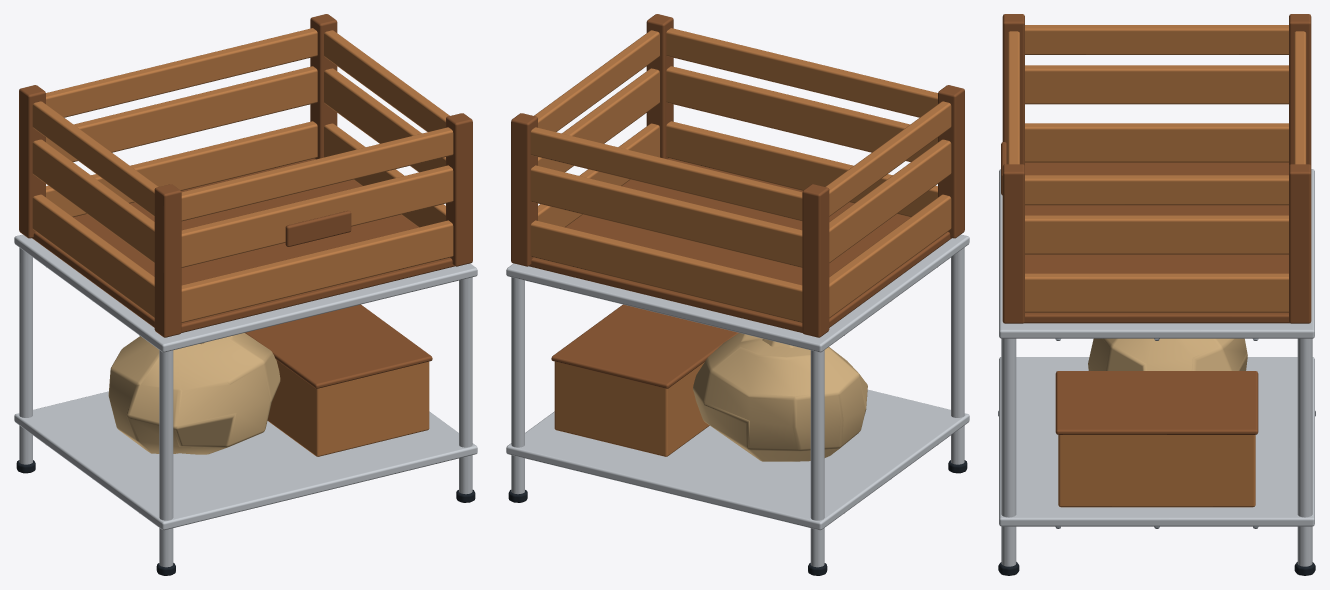
The model's file is ProduceRack.glb.
The picture shows the model from 3 angles, left to right: view 1: azimuth 30°, elevation 25°; view 2: azimuth 150°, elevation 25°; view 3: azimuth 270°, elevation 25°; orthographic projection. The views are drawn at different scales.
Visible parts, largest first — view 1: ProduceRack; view 2: ProduceRack; view 3: ProduceRack.
Boxes of the visible parts, box(x1,y1,x2,y2) form: ProduceRack: box(14, 14, 477, 575); ProduceRack: box(506, 14, 969, 575); ProduceRack: box(998, 14, 1315, 575).
Bounding box in the file's own units: 0.7824 × 0.9 × 0.6424.
